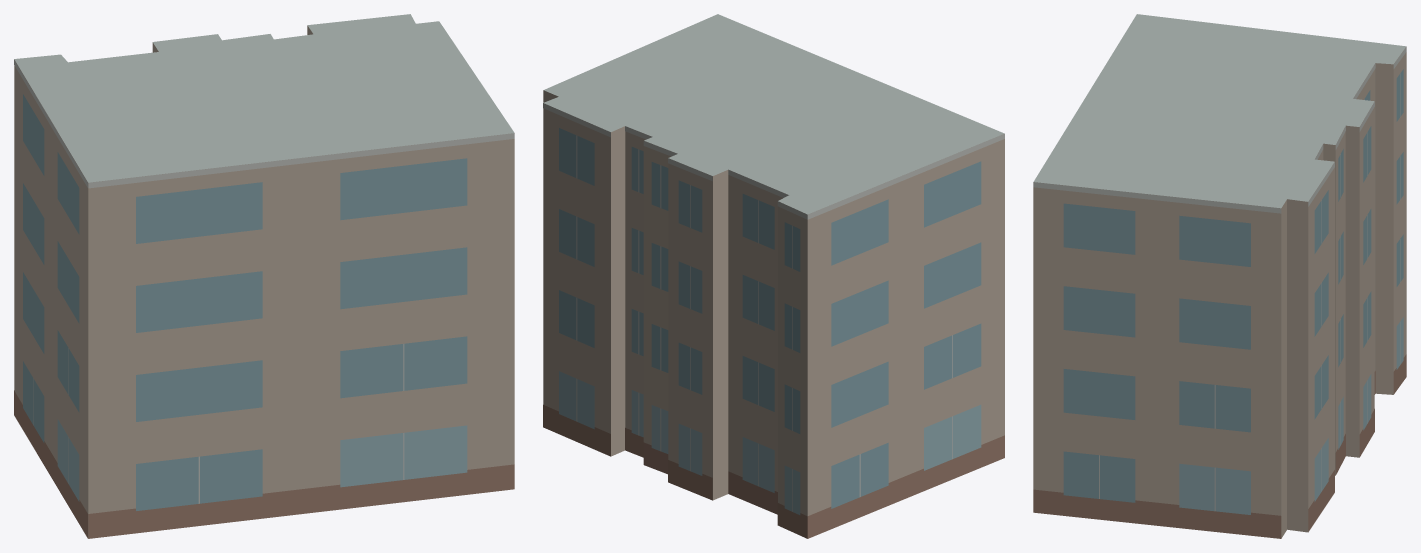
File: survey-upis-32809972.glb
The picture shows the model from 3 angles, left to right: view 1: azimuth 30°, elevation 25°; view 2: azimuth 150°, elevation 25°; view 3: azimuth 270°, elevation 25°; orthographic projection. The views are drawn at different scales.
Parts seen in each view (by area): view 1: survey-upis-32809972.tmp; view 2: survey-upis-32809972.tmp; view 3: survey-upis-32809972.tmp.
Part boxes in pixels (<box>): survey-upis-32809972.tmp: <box>14,14,514,538</box>; survey-upis-32809972.tmp: <box>543,14,1004,538</box>; survey-upis-32809972.tmp: <box>1033,14,1406,538</box>.
Bounding box in the file's own units: 19.04 × 15.1 × 15.46.
